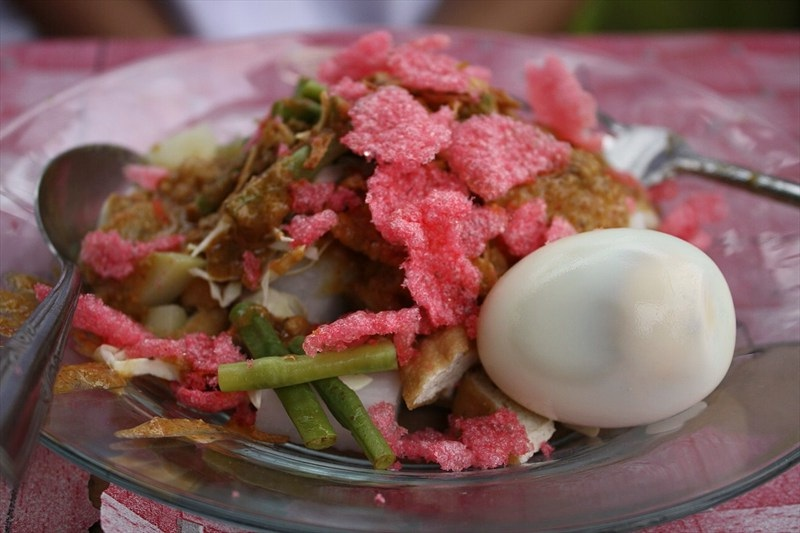Gado-Gado: (92, 66, 713, 423)
